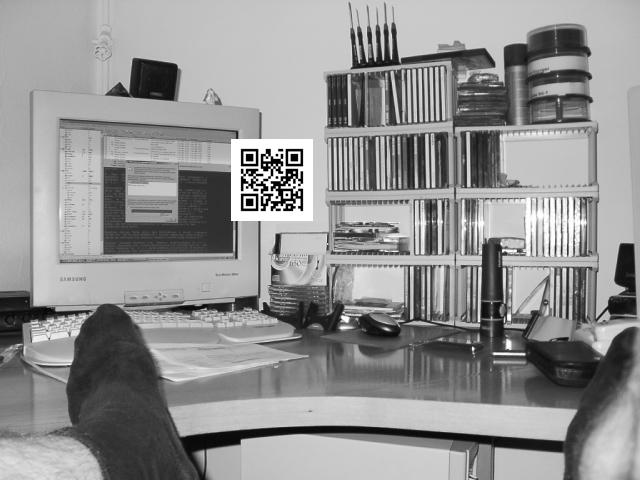qr_code: (230, 137, 313, 221)
